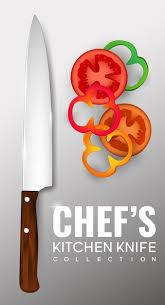Knife: (19, 13, 53, 292)
